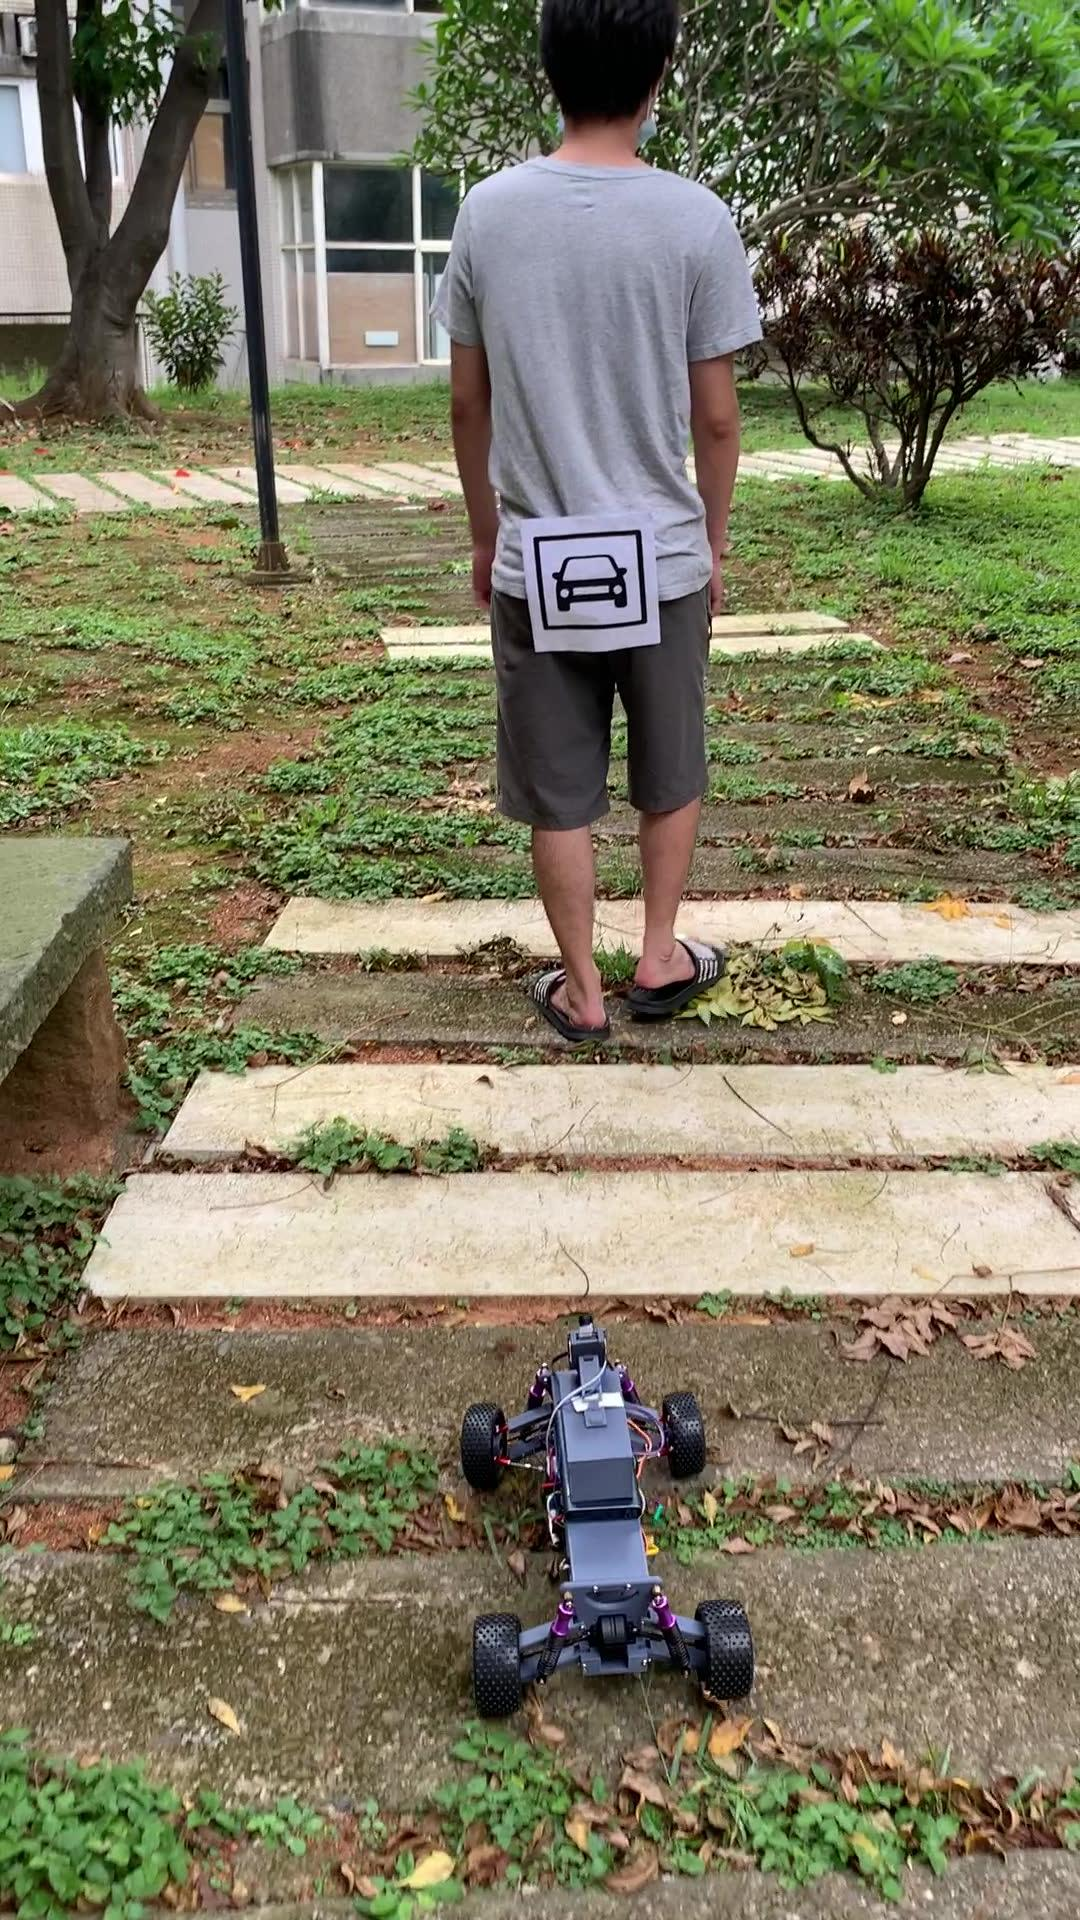car_img: (533, 529, 647, 630)
